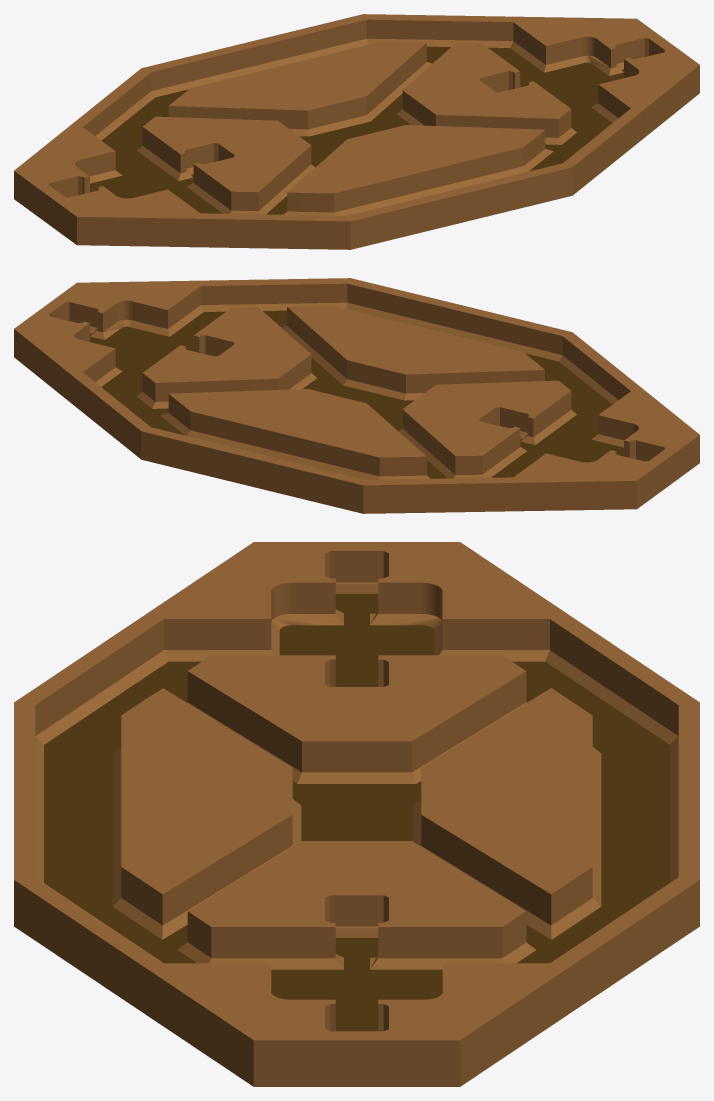
File: Arena2Test.fbx
3 views of the same model, one above another, from view 1: azimuth 30°, elevation 25°; view 2: azimuth 150°, elevation 25°; view 3: azimuth 270°, elevation 25° (orthographic). The views are drawn at different scales.
Parts seen in each view (by area): view 1: Model; view 2: Model; view 3: Model.
Boxes of the visible parts, x1,y1,x2,y2 form: Model: (14, 14, 699, 249); Model: (14, 278, 699, 513); Model: (14, 542, 699, 1086).
Size of the model in its own units: 275 by 12 by 160.
